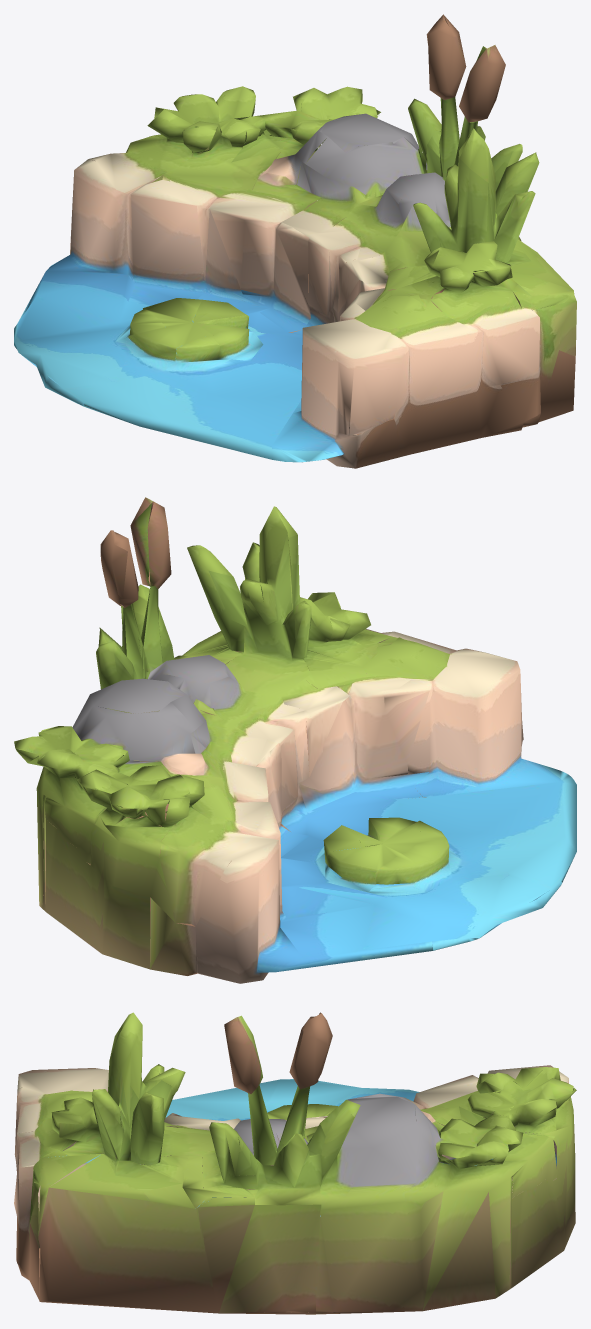
File: M-6_09_pond.glb
3 renders of one model, top to bottom at view 1: azimuth 30°, elevation 25°; view 2: azimuth 150°, elevation 25°; view 3: azimuth 270°, elevation 25°, orthographic. The views are drawn at different scales.
Parts seen in each view (by area): view 1: pond; view 2: pond; view 3: pond.
Boxes of the visible parts, x1,y1,x2,y2 form: pond: (14, 14, 576, 468); pond: (14, 497, 576, 983); pond: (14, 1012, 576, 1314).
Size of the model in its own units: 5.43 by 3.51 by 6.04.
Materials: 2 (2 with a texture image).
